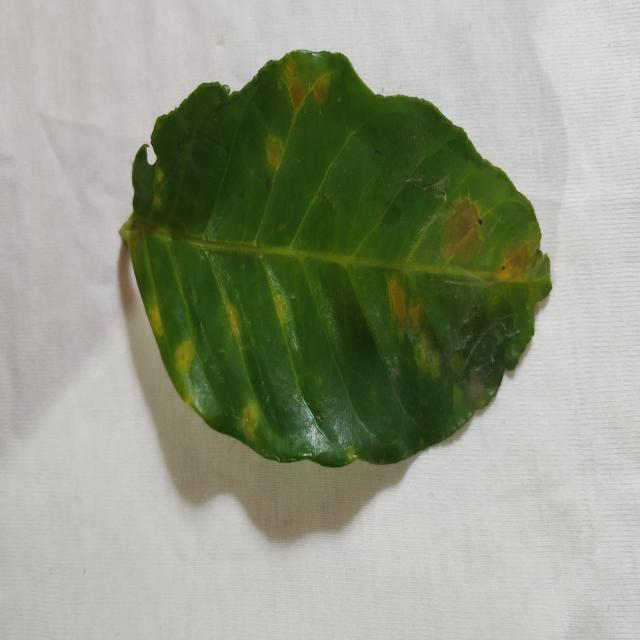Enfermedad-Roya: (118, 51, 553, 471)
